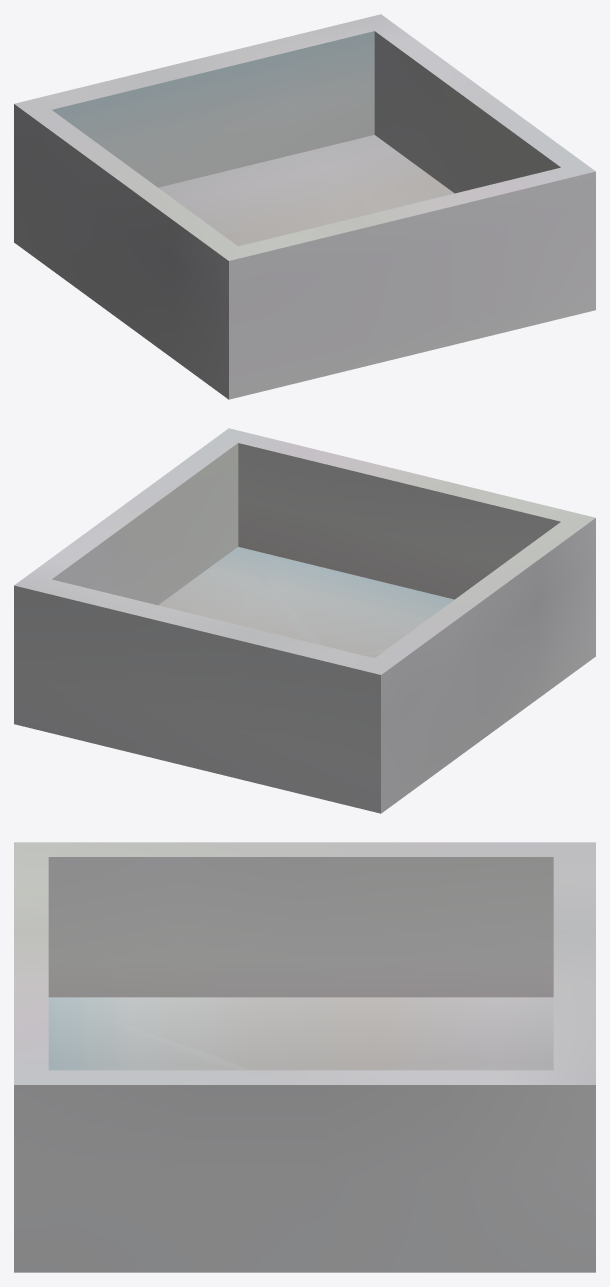
Rendered from Sink2.fbx.
The picture shows the model from 3 angles, top to bottom: view 1: azimuth 30°, elevation 25°; view 2: azimuth 150°, elevation 25°; view 3: azimuth 270°, elevation 25°; orthographic projection. The views are drawn at different scales.
Parts seen in each view (by area): view 1: Sink_Base.001; view 2: Sink_Base.001; view 3: Sink_Base.001.
Part boxes in pixels (bbox=[...]): Sink_Base.001: bbox=[14, 14, 595, 399]; Sink_Base.001: bbox=[14, 428, 595, 813]; Sink_Base.001: bbox=[14, 842, 595, 1272].
Bounding box in the file's own units: 335 × 121 × 340.
